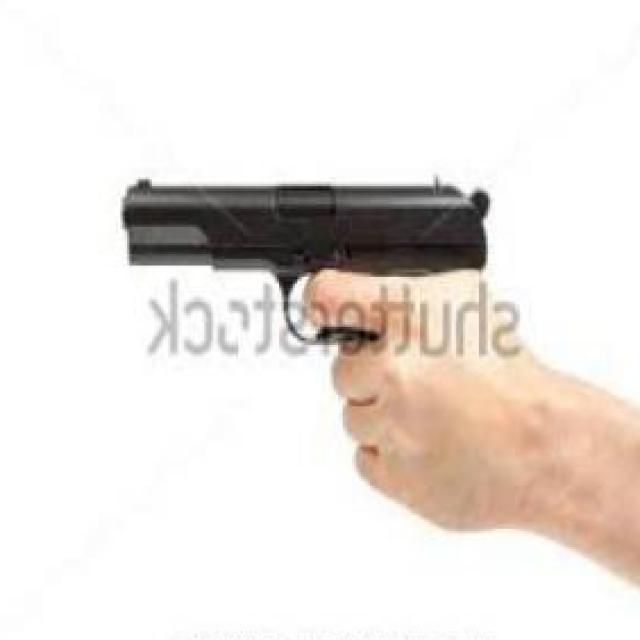pistol: (117, 179, 501, 371)
